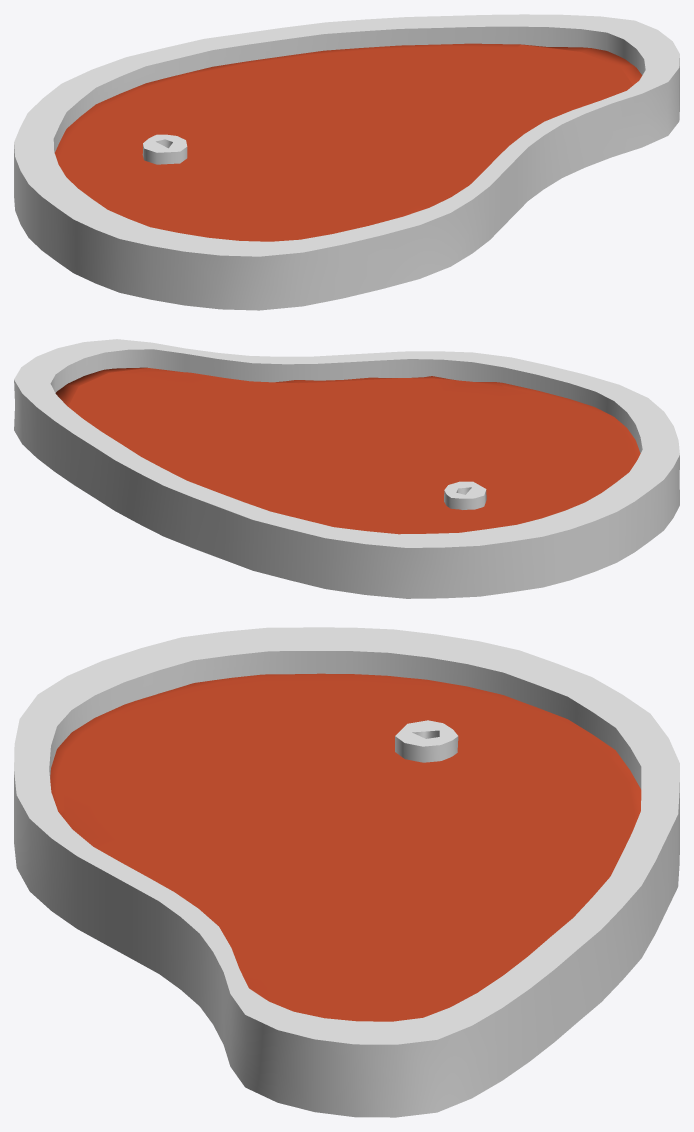
The model's file is meat.glb.
3 views of the same model, one above another, from view 1: azimuth 30°, elevation 25°; view 2: azimuth 150°, elevation 25°; view 3: azimuth 270°, elevation 25° (orthographic). The views are drawn at different scales.
Visible parts, largest first — view 1: Plane002, Plane001; view 2: Plane002, Plane001; view 3: Plane002, Plane001.
Part boxes in pixels (x1,y1,x2,y2): Plane002: [54, 43, 642, 241]; Plane001: [14, 14, 679, 310]; Plane002: [55, 367, 640, 534]; Plane001: [14, 339, 679, 598]; Plane002: [50, 673, 641, 1021]; Plane001: [14, 627, 679, 1117].
Bounding box in the file's own units: 0.0595 × 0.00484 × 0.0401.
